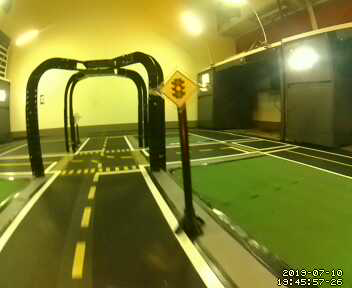Traffic light sign: (159, 69, 203, 108)
